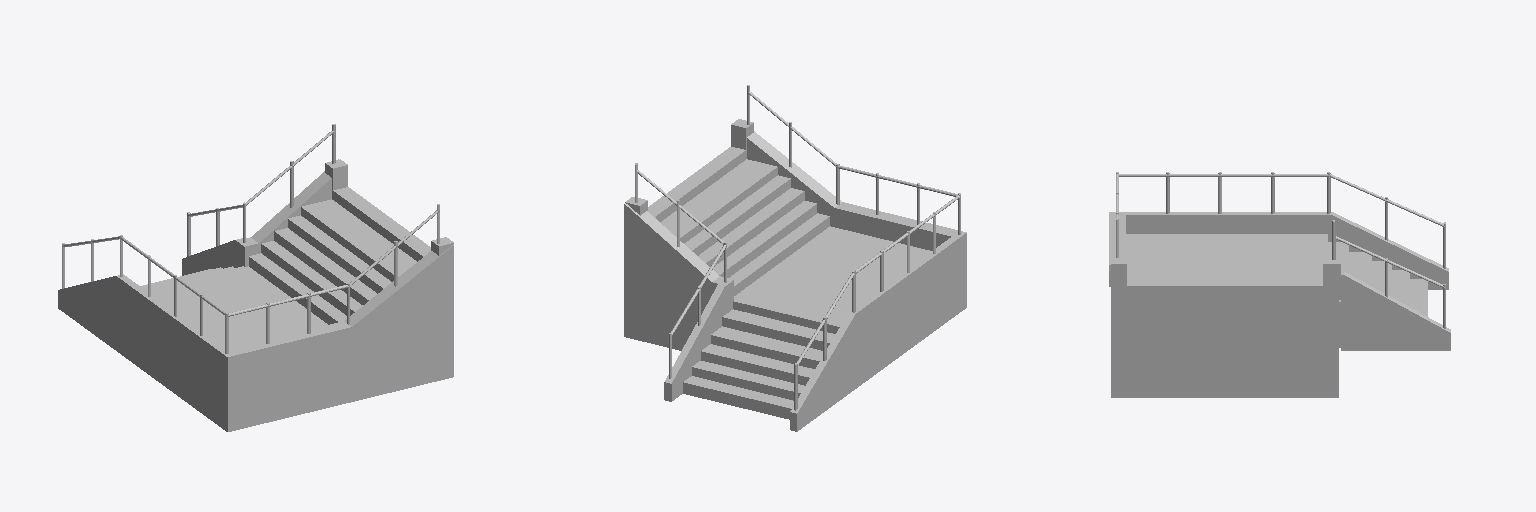
Rendered from stairs2.obj.
3 renders of one model, left to right at view 1: azimuth 30°, elevation 25°; view 2: azimuth 150°, elevation 25°; view 3: azimuth 270°, elevation 25°, orthographic.
Visible parts, largest first — view 1: Landscape; view 2: Landscape; view 3: Landscape.
Part boxes in pixels (bbox=[...]): Landscape: bbox=[58, 124, 453, 431]; Landscape: bbox=[624, 85, 966, 431]; Landscape: bbox=[1109, 172, 1450, 397].
Size of the model in its own units: 2.21 by 1.6 by 2.86.